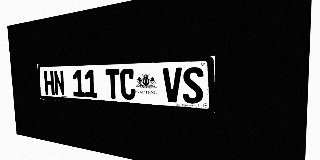1: (84, 69, 97, 98), (72, 70, 85, 97)
C: (120, 68, 136, 100)
H: (44, 70, 55, 95)
N: (53, 70, 65, 96)
S: (182, 67, 203, 104)
T: (105, 69, 120, 99)
V: (163, 67, 182, 103)
